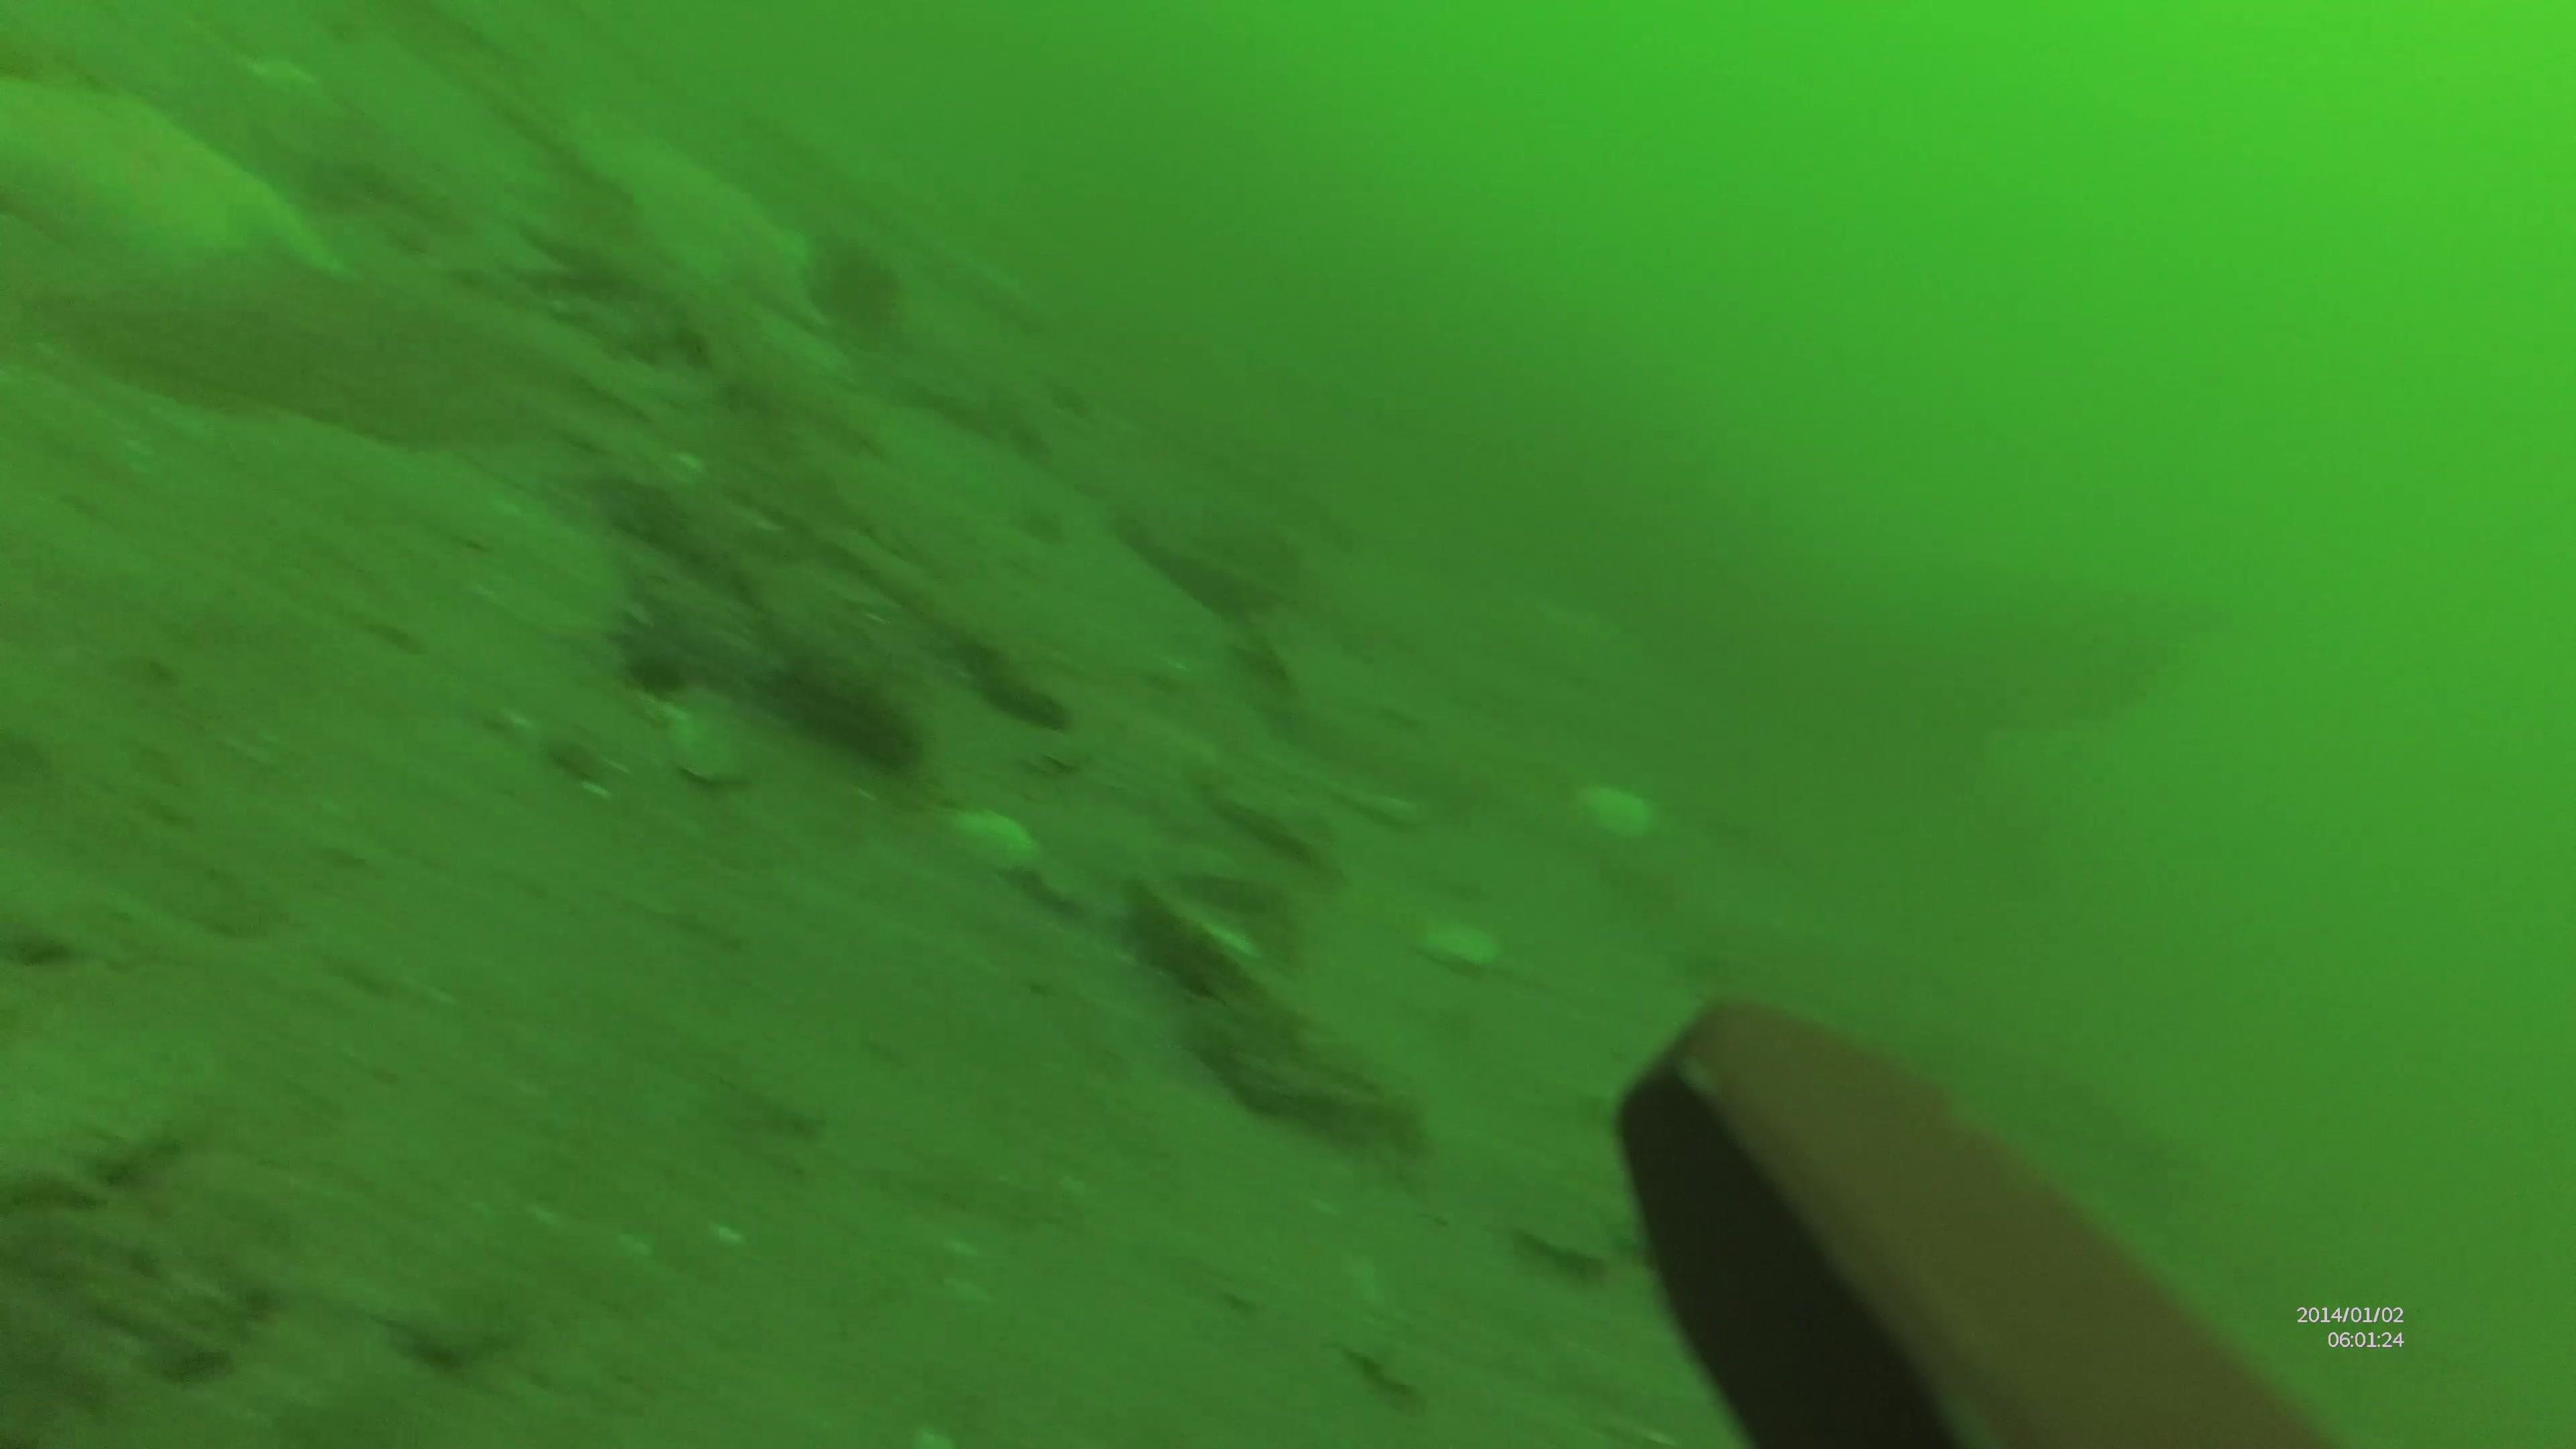scallop: (952, 805, 1040, 872), (1578, 777, 1661, 840), (1414, 915, 1500, 975)
